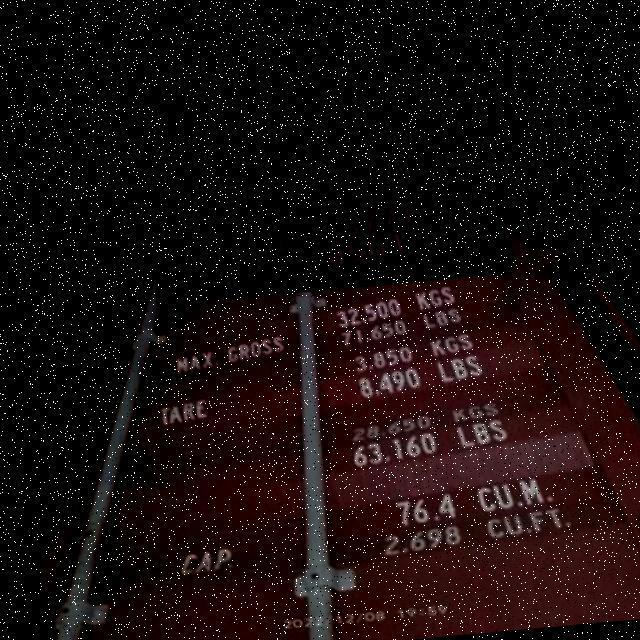container_number_h: (139, 137, 514, 308)
